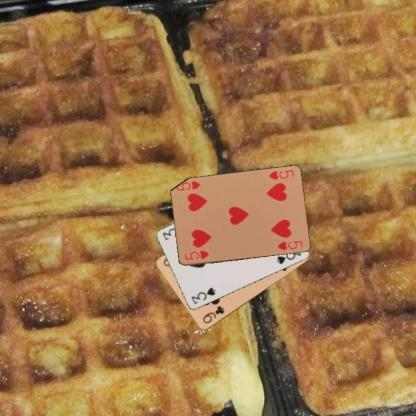3s: (189, 285, 217, 305)
5h: (182, 247, 210, 262), (266, 167, 295, 181)
9c: (200, 303, 225, 325)
